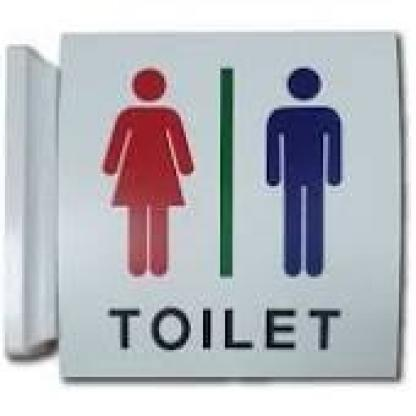toilet: (89, 55, 360, 285)
